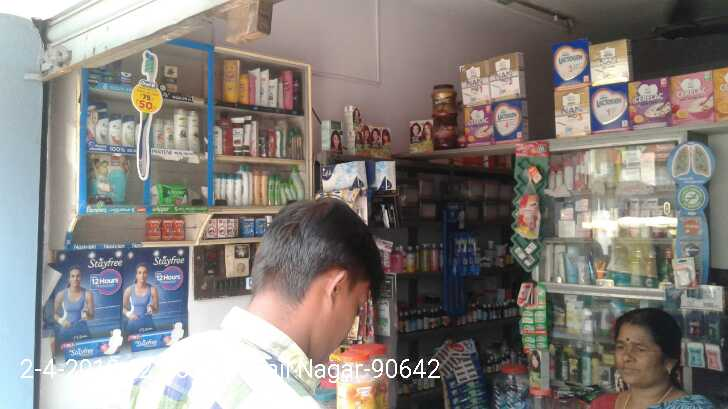vicks: (91, 63, 130, 82)
